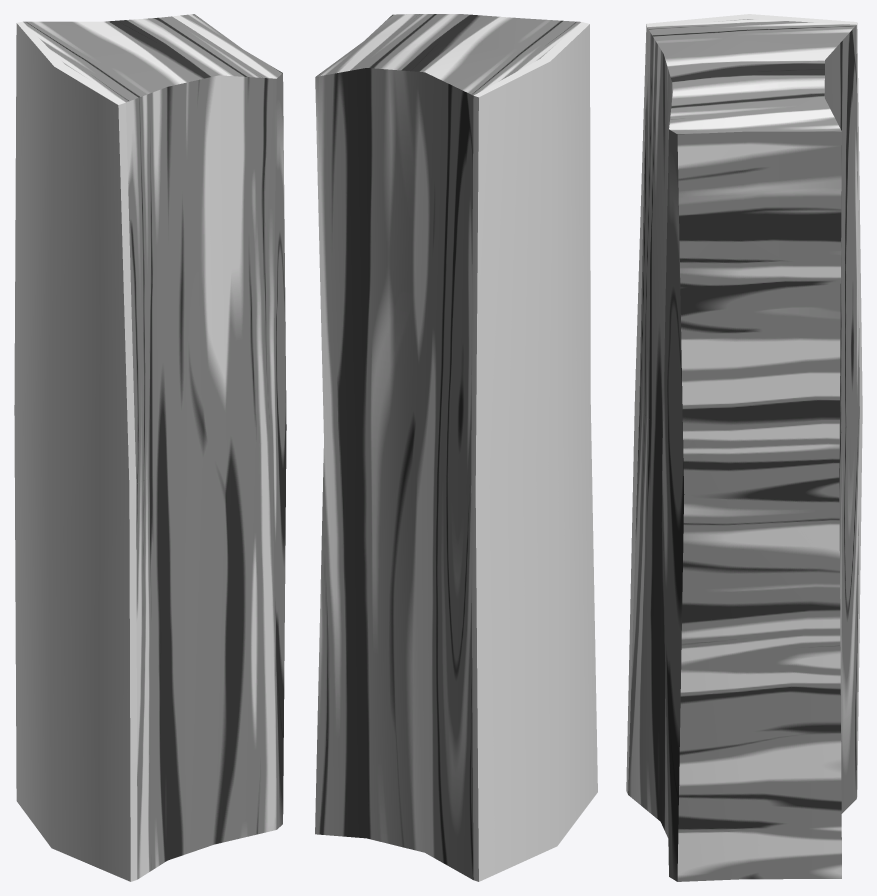
Rendered from SM_FireWood01.obj.
The picture shows the model from 3 angles, left to right: view 1: azimuth 30°, elevation 25°; view 2: azimuth 150°, elevation 25°; view 3: azimuth 270°, elevation 25°; orthographic projection.
Parts seen in each view (by area): view 1: SM_FireWood01_Mat_MainWS_WoodRotated_Dark_Inst, SM_FireWood01_Mi_FireWoodDark; view 2: SM_FireWood01_Mat_MainWS_WoodRotated_Dark_Inst, SM_FireWood01_Mi_FireWoodDark; view 3: SM_FireWood01_Mat_MainWS_WoodRotated_Dark_Inst, SM_FireWood01_Mi_FireWoodDark.
Boxes of the visible parts, bbox=[...] form: SM_FireWood01_Mat_MainWS_WoodRotated_Dark_Inst: bbox=[23, 14, 286, 879]; SM_FireWood01_Mi_FireWoodDark: bbox=[14, 21, 137, 881]; SM_FireWood01_Mat_MainWS_WoodRotated_Dark_Inst: bbox=[315, 14, 580, 879]; SM_FireWood01_Mi_FireWoodDark: bbox=[471, 22, 597, 881]; SM_FireWood01_Mat_MainWS_WoodRotated_Dark_Inst: bbox=[628, 19, 859, 881]; SM_FireWood01_Mi_FireWoodDark: bbox=[626, 14, 862, 797].
Bounding box in the file's own units: 0.1196 × 0.4337 × 0.1198.
2 materials, 1 textured.
